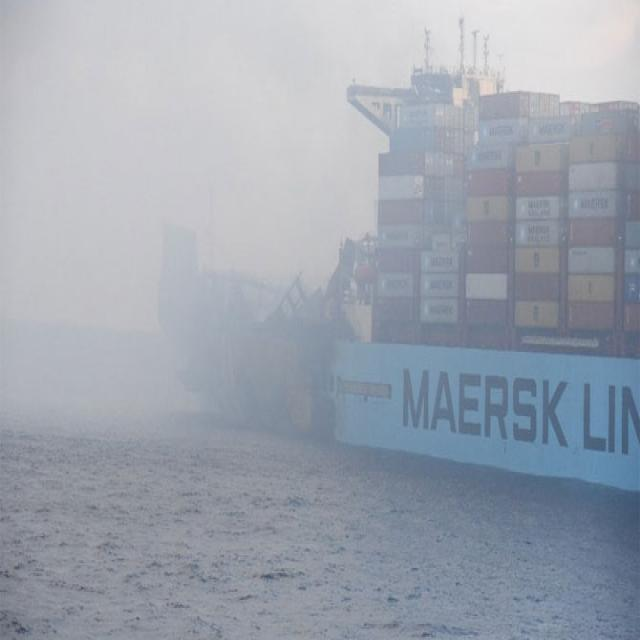cargoship: (260, 40, 640, 487)
